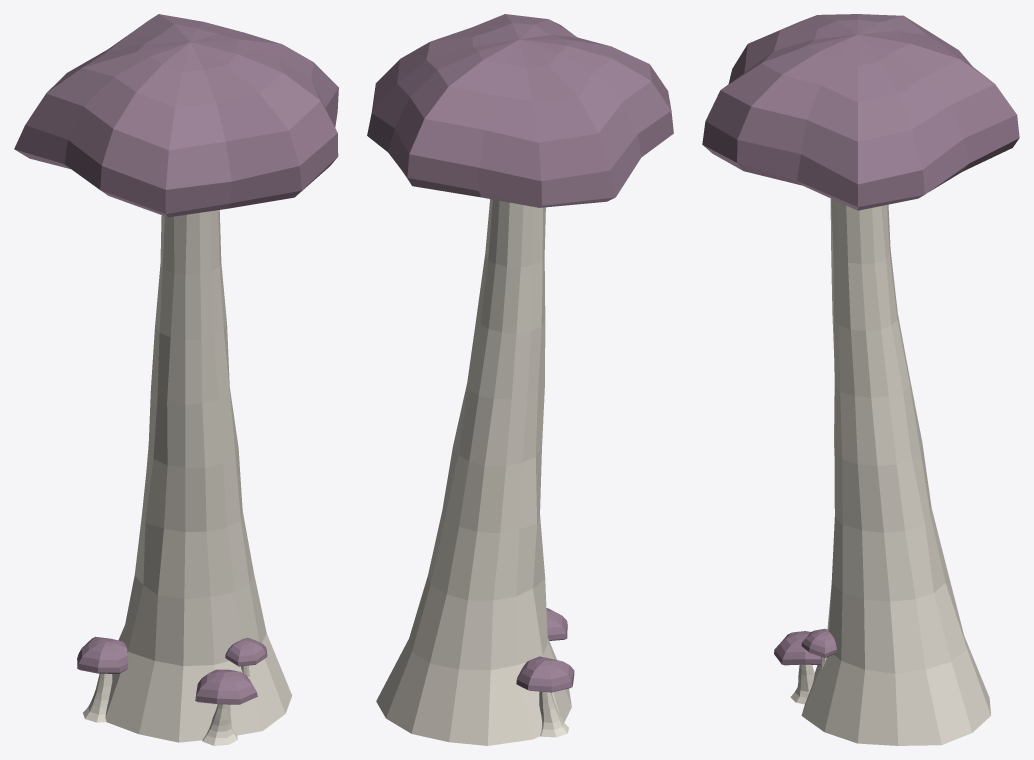
File: cogumelo_gigante_b_sem_textura.glb
The picture shows the model from 3 angles, left to right: view 1: azimuth 30°, elevation 25°; view 2: azimuth 150°, elevation 25°; view 3: azimuth 270°, elevation 25°; orthographic projection. The views are drawn at different scales.
Parts seen in each view (by area): view 1: cogumelo_gigante_b; view 2: cogumelo_gigante_b; view 3: cogumelo_gigante_b.
Part boxes in pixels (x1=…): cogumelo_gigante_b: x1=14, y1=14, x2=338, y2=745; cogumelo_gigante_b: x1=367, y1=14, x2=673, y2=745; cogumelo_gigante_b: x1=702, y1=14, x2=1019, y2=745.
Bounding box in the file's own units: 0.92 × 2.08 × 0.9059.
